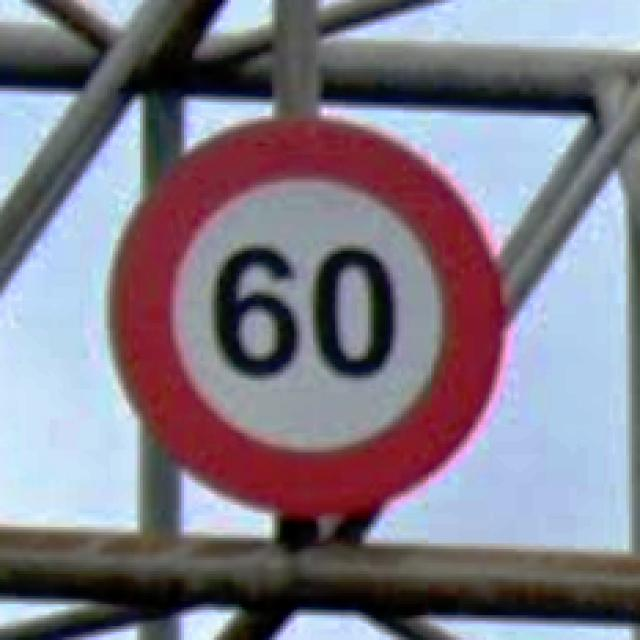max60: (104, 110, 511, 522)
